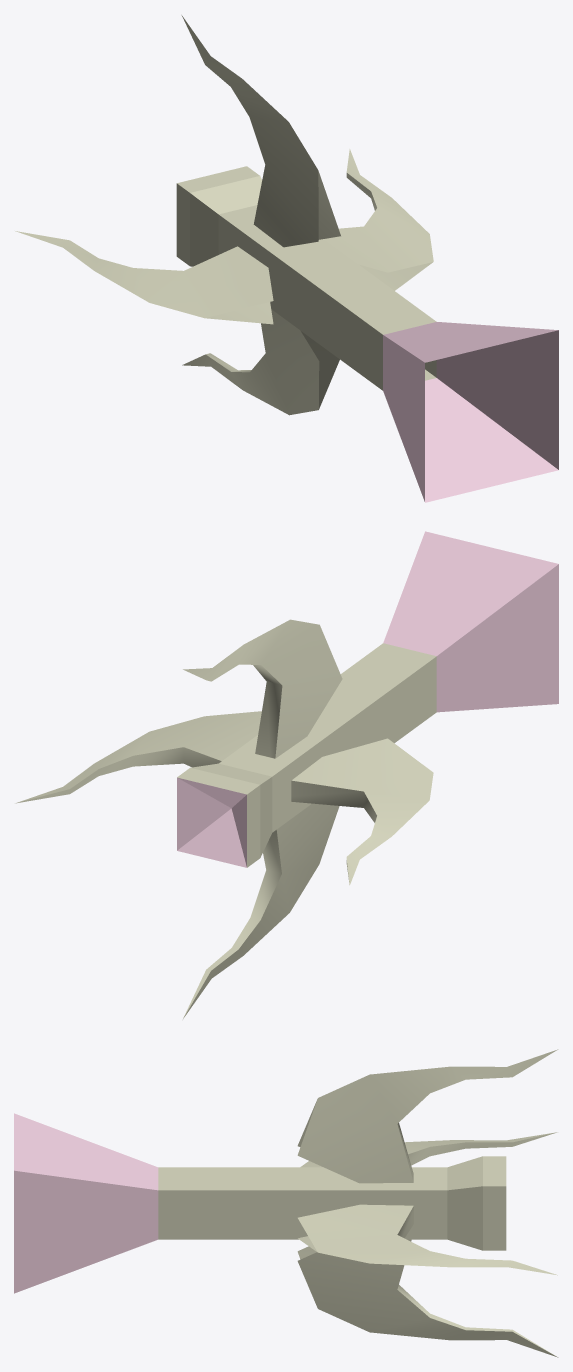
The picture shows the model from 3 angles, top to bottom: view 1: azimuth 30°, elevation 25°; view 2: azimuth 150°, elevation 25°; view 3: azimuth 270°, elevation 25°; orthographic projection. The views are drawn at different scales.
Visible parts, largest first — view 1: Object56; view 2: Object56; view 3: Object56.
Boxes of the visible parts, box(x1,y1,x2,y2) form: Object56: box(15, 15, 558, 502); Object56: box(15, 531, 558, 1018); Object56: box(14, 1049, 558, 1357).
Bounding box in the file's own units: 10034 × 10034 × 16059.
